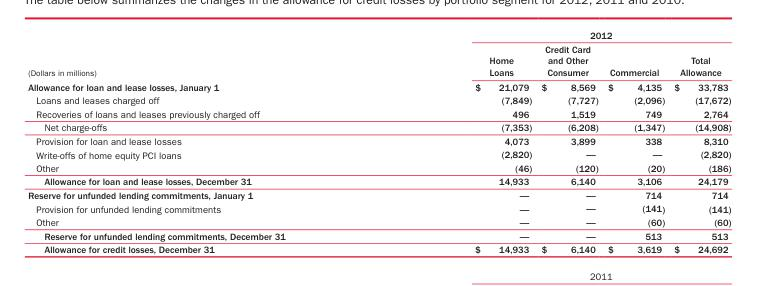table: (27, 29, 730, 254)
table column: (27, 29, 379, 254), (379, 29, 536, 254), (536, 29, 602, 254), (602, 29, 668, 254), (668, 29, 730, 254)
table column header: (27, 29, 730, 78)
table row: (27, 41, 730, 78), (27, 78, 730, 93), (27, 106, 730, 120), (27, 133, 730, 147), (27, 160, 730, 174), (27, 187, 730, 201), (27, 201, 730, 215), (27, 228, 730, 242), (27, 93, 730, 106), (27, 120, 730, 133), (27, 147, 730, 160), (27, 174, 730, 187), (27, 215, 730, 228), (27, 29, 730, 41), (27, 242, 730, 254)
table spanning cell: (27, 29, 379, 78), (379, 29, 730, 41)
